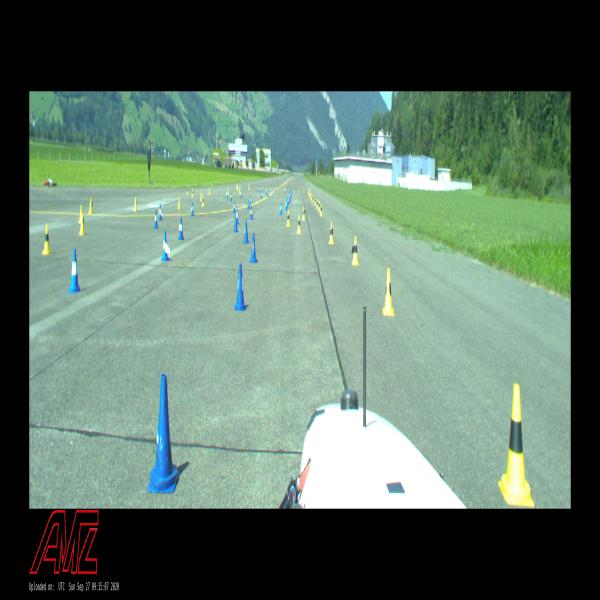blue_cone: (147, 372, 180, 494), (68, 248, 80, 293), (235, 264, 246, 310), (160, 232, 170, 262), (250, 232, 257, 263), (243, 219, 249, 245), (178, 218, 184, 240), (233, 214, 238, 234), (153, 209, 158, 228), (158, 204, 163, 220), (190, 203, 195, 216), (250, 205, 254, 220), (279, 201, 283, 216), (236, 208, 239, 224), (233, 201, 236, 214), (285, 199, 288, 211), (225, 190, 228, 200), (287, 195, 290, 204), (248, 199, 250, 210), (230, 192, 232, 202), (286, 198, 288, 208), (260, 191, 262, 198), (266, 188, 268, 195), (263, 185, 265, 191), (240, 190, 241, 198), (268, 190, 269, 198)
yellow_cone: (498, 383, 534, 507), (382, 268, 396, 316), (42, 224, 51, 255), (351, 236, 360, 266), (78, 205, 84, 236), (79, 212, 86, 236), (328, 222, 334, 244), (296, 214, 302, 233), (88, 196, 93, 215), (286, 209, 291, 227), (302, 206, 306, 221), (134, 198, 138, 212), (178, 196, 182, 210), (320, 203, 324, 216), (202, 195, 205, 208), (318, 200, 321, 213), (191, 186, 194, 198), (316, 198, 319, 210), (314, 196, 317, 207), (186, 186, 189, 195), (208, 186, 211, 195), (200, 190, 202, 202), (228, 187, 230, 196), (312, 194, 314, 203), (303, 187, 305, 193), (311, 193, 312, 201)
